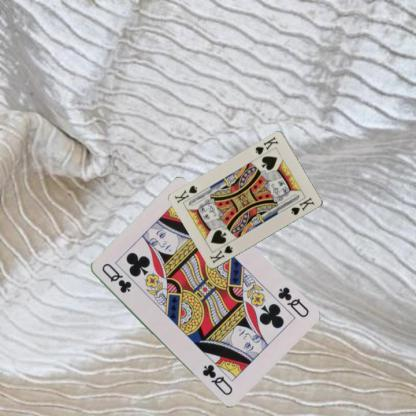Ks: (252, 134, 280, 156), (207, 244, 234, 264)
Qc: (275, 284, 310, 319), (99, 260, 133, 294)
